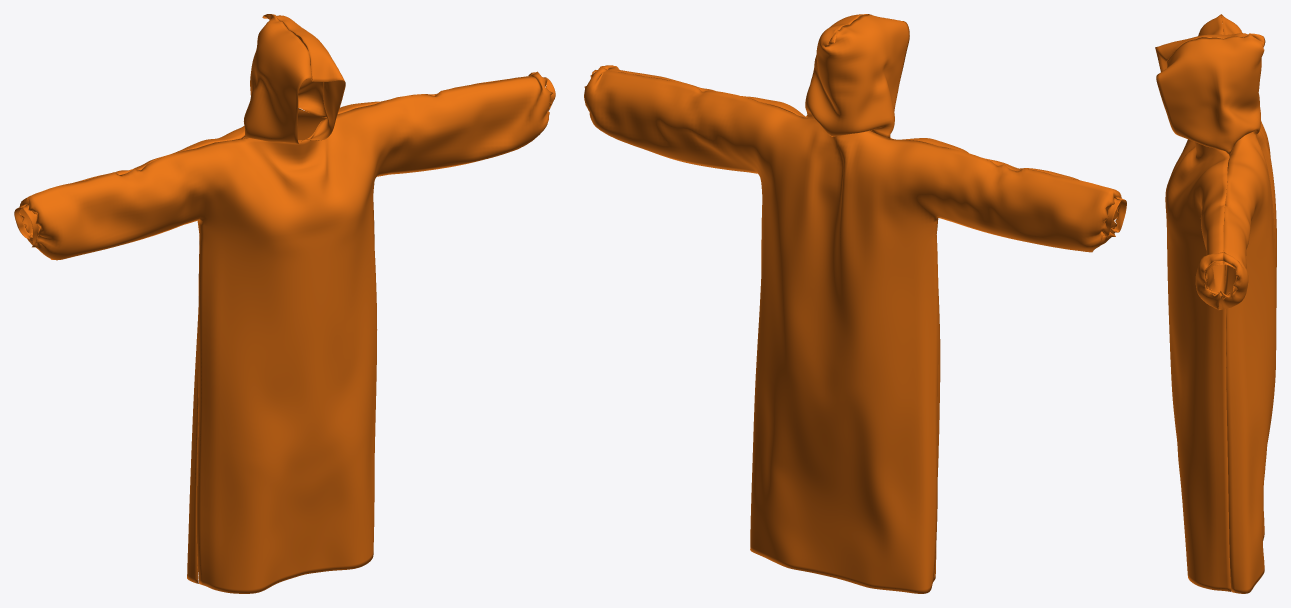
File: rainCoat1.glb
3 views of the same model, side by side, from view 1: azimuth 30°, elevation 25°; view 2: azimuth 150°, elevation 25°; view 3: azimuth 270°, elevation 25° (orthographic). The views are drawn at different scales.
Visible parts, largest first — view 1: rian coat_0; view 2: rian coat_0; view 3: rian coat_0.
Part boxes in pixels (x1,y1,x2,y2): rian coat_0: (14, 14, 555, 593); rian coat_0: (584, 14, 1126, 593); rian coat_0: (1155, 14, 1276, 593).
Size of the model in its own units: 0.1124 by 0.1102 by 0.0234.
